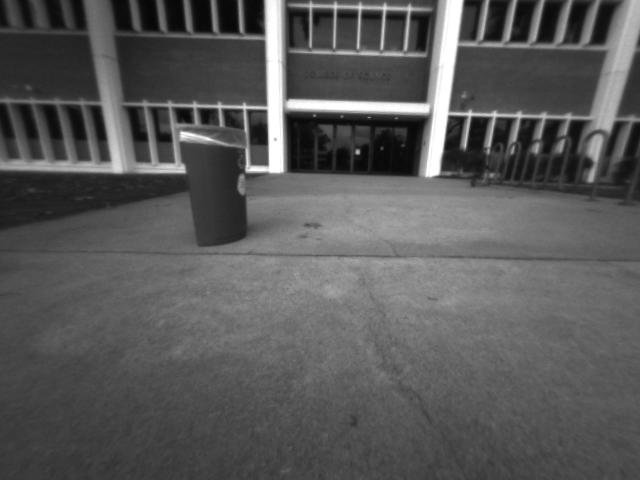trashcan_open: (172, 120, 249, 247)
